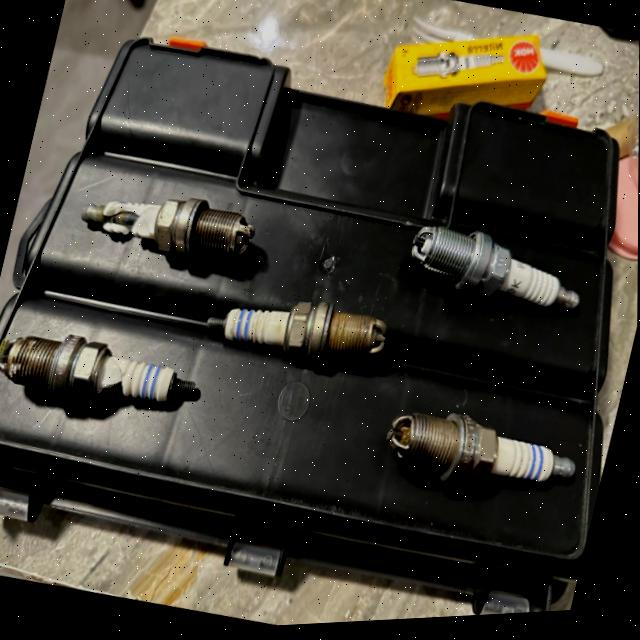damaged_spark-plug: (0, 306, 212, 448), (67, 174, 258, 285)
spark-plug: (394, 209, 599, 344), (386, 395, 585, 508), (209, 279, 403, 387)
